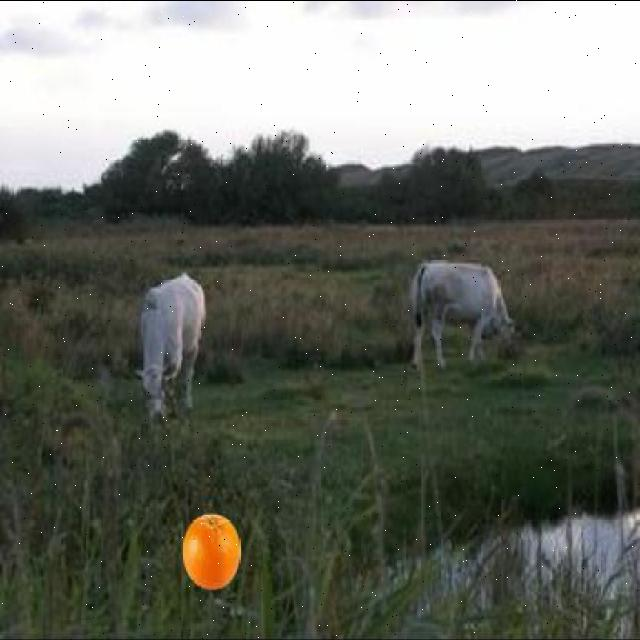Orange: (180, 512, 242, 590)
